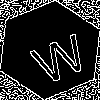W: (25, 25, 92, 86)
